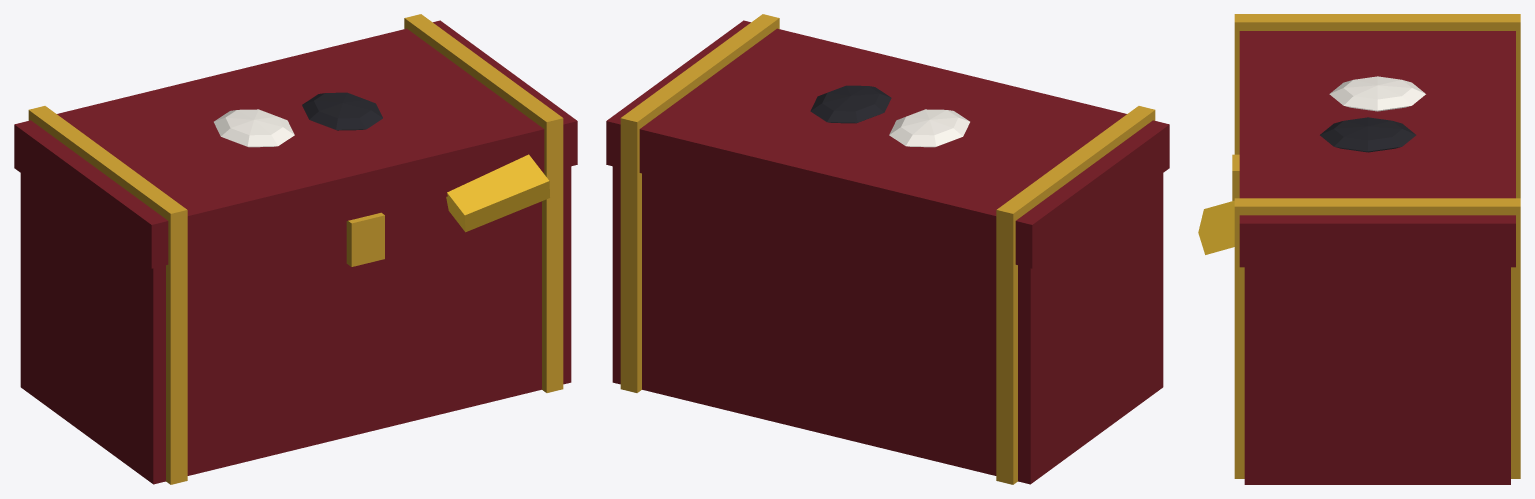
Rendered from theater_trunk.glb.
The picture shows the model from 3 angles, left to right: view 1: azimuth 30°, elevation 25°; view 2: azimuth 150°, elevation 25°; view 3: azimuth 270°, elevation 25°; orthographic projection.
Visible parts, largest first — view 1: box_trunk_red, lid_trunk_red, trim_trunk_gold, sleeve_sleeve_ruff, masks_mask_black, masks_mask_white, lock_trunk_gold; view 2: box_trunk_red, lid_trunk_red, trim_trunk_gold, masks_mask_black, masks_mask_white; view 3: box_trunk_red, lid_trunk_red, trim_trunk_gold, masks_mask_black, masks_mask_white, sleeve_sleeve_ruff, lock_trunk_gold.
Boxes of the visible parts, x1,y1,x2,y2 form: box_trunk_red: [20, 166, 571, 484]; lid_trunk_red: [14, 20, 577, 268]; trim_trunk_gold: [28, 14, 563, 484]; sleeve_sleeve_ruff: [446, 154, 549, 232]; masks_mask_black: [302, 92, 382, 130]; masks_mask_white: [214, 109, 294, 147]; lock_trunk_gold: [346, 212, 384, 266]; box_trunk_red: [612, 166, 1163, 484]; lid_trunk_red: [606, 20, 1169, 268]; trim_trunk_gold: [620, 14, 1155, 484]; masks_mask_black: [810, 85, 891, 123]; masks_mask_white: [889, 109, 969, 147]; box_trunk_red: [1244, 267, 1510, 484]; lid_trunk_red: [1239, 31, 1515, 267]; trim_trunk_gold: [1234, 14, 1520, 478]; masks_mask_black: [1320, 117, 1416, 152]; masks_mask_white: [1329, 76, 1425, 111]; sleeve_sleeve_ruff: [1198, 200, 1234, 254]; lock_trunk_gold: [1232, 154, 1239, 200].
Bounding box in the file's own units: 1.02 × 0.63 × 0.6654.
